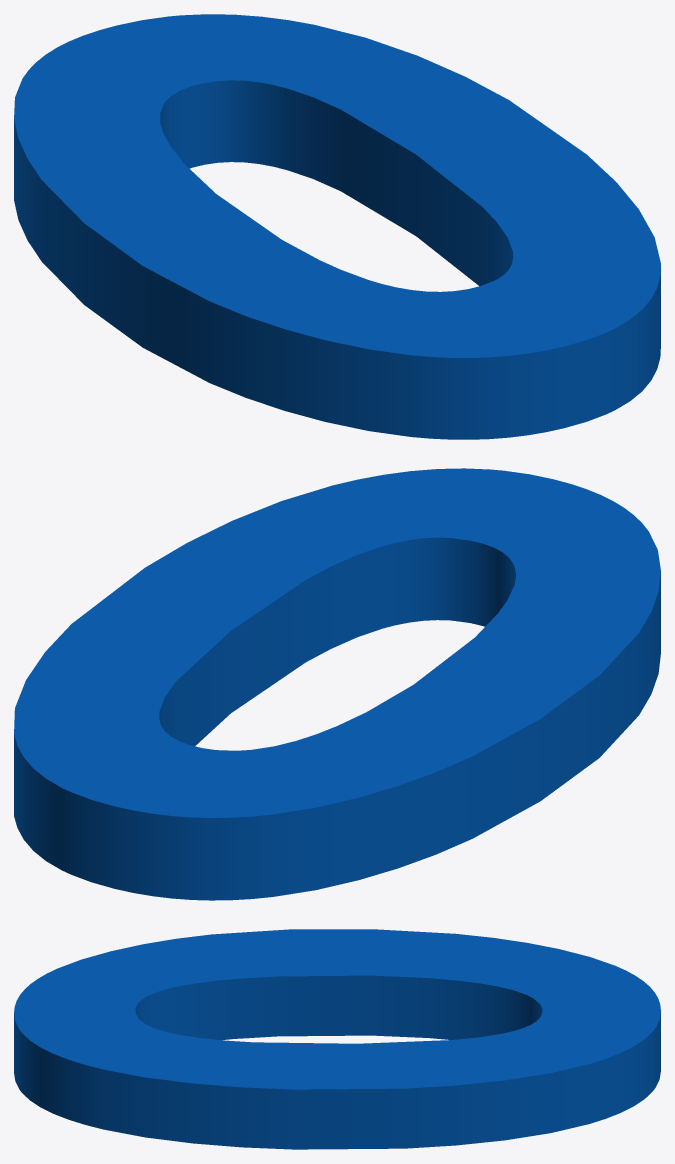
3 renders of one model, top to bottom at view 1: azimuth 30°, elevation 25°; view 2: azimuth 150°, elevation 25°; view 3: azimuth 270°, elevation 25°, orthographic. The views are drawn at different scales.
Visible parts, largest first — view 1: o; view 2: o; view 3: o.
Part boxes in pixels (box(x1,y1,x2,y2)): o: box(14, 14, 660, 439); o: box(14, 468, 660, 900); o: box(14, 929, 660, 1149).
Bounding box in the file's own units: 1.43 × 0.25 × 2.44.
